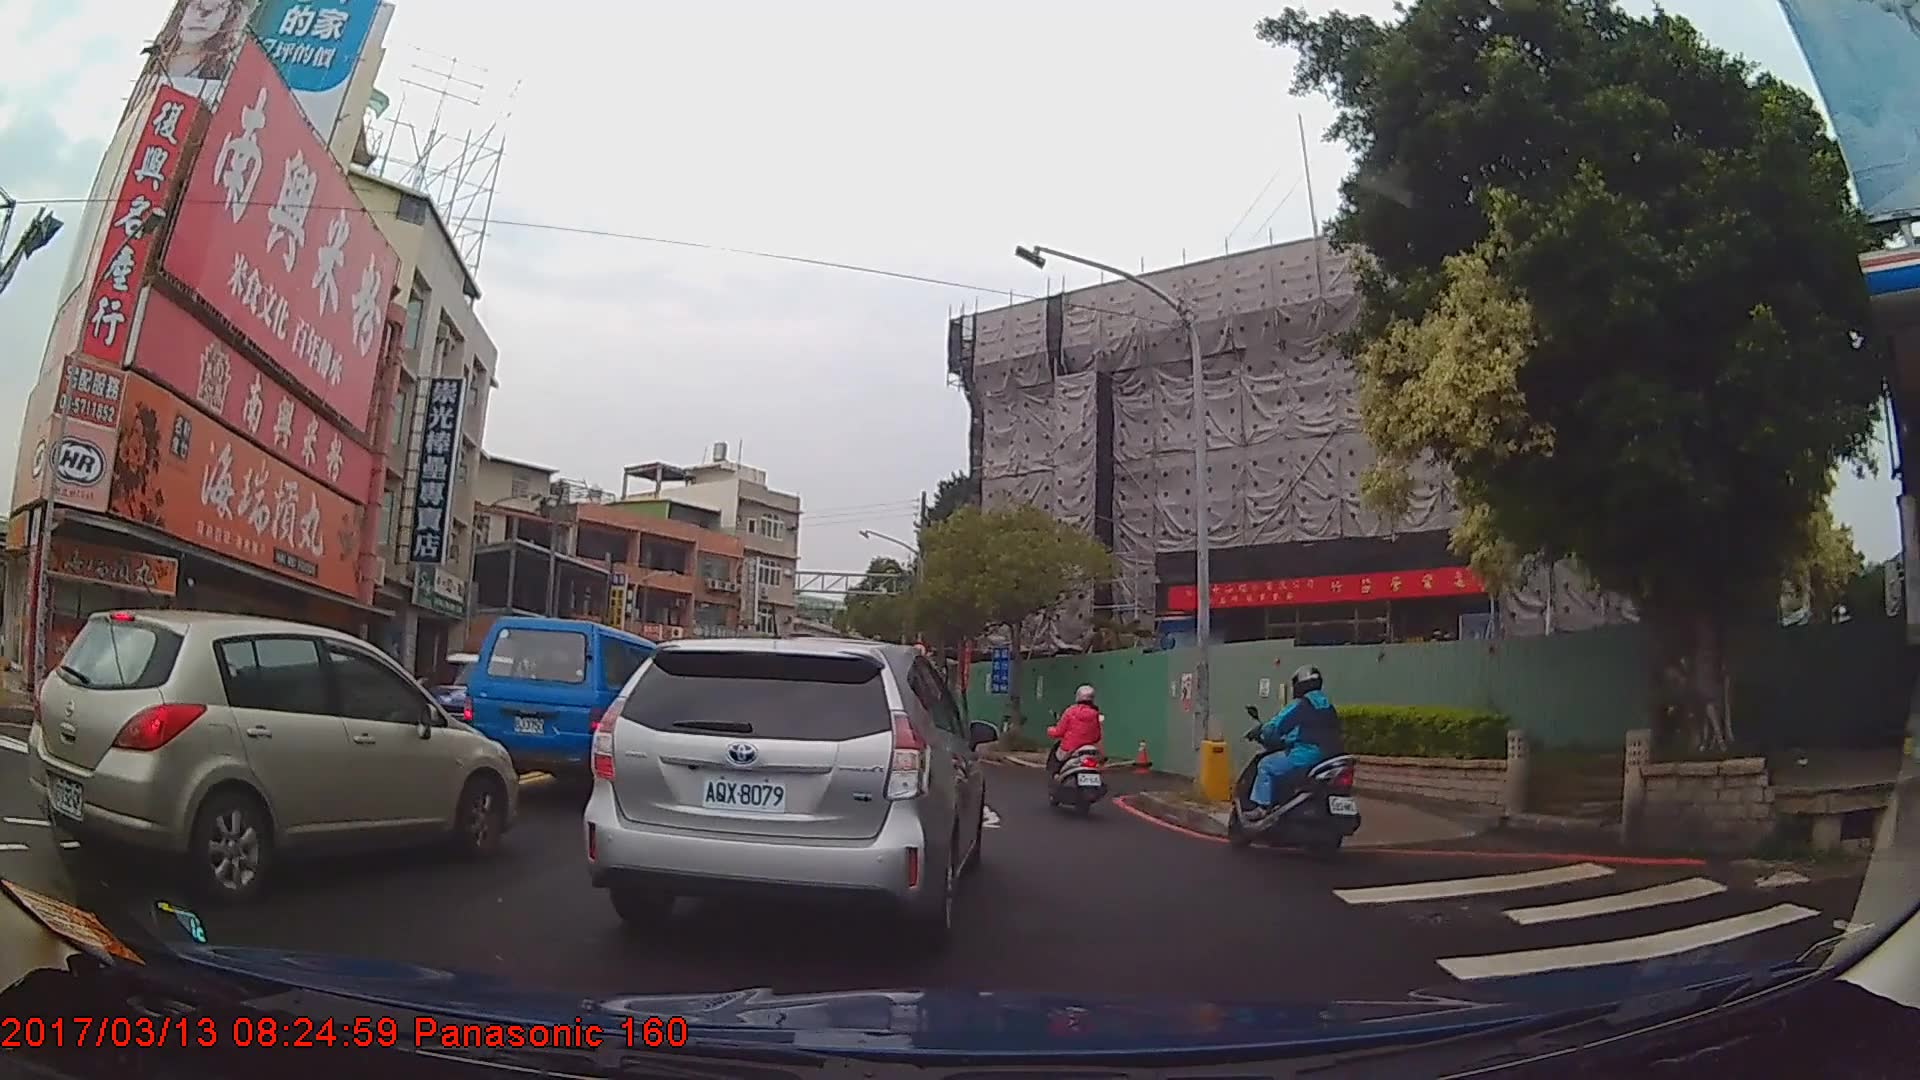rider: (1222, 667, 1357, 855), (1046, 681, 1106, 809)
vehicle: (19, 605, 515, 904), (576, 629, 985, 945), (463, 614, 681, 802), (404, 647, 540, 765)
